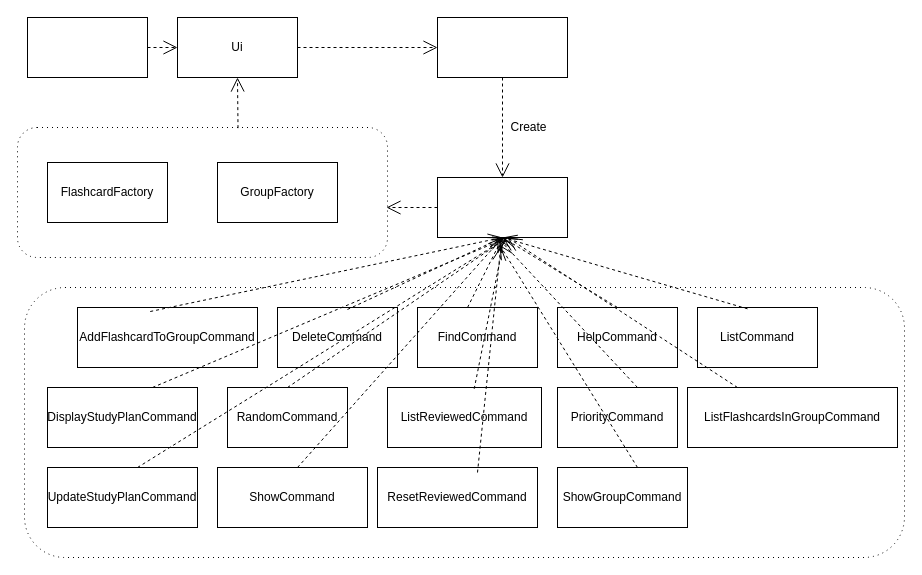
The diagram is 922 pixels wide and 575 high, and some of its shapes have lost their labels. Each missing label, with the centre of its shape:
Command: the point at 502,207
Main: the point at 87,47
Parse: the point at 502,47
